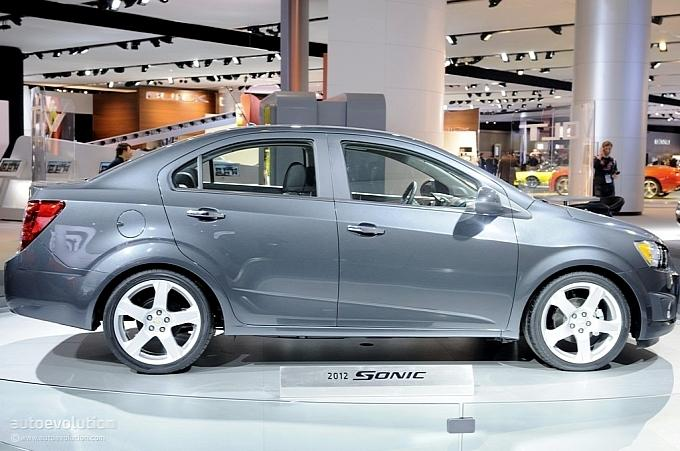Sedan: (3, 122, 678, 374)
